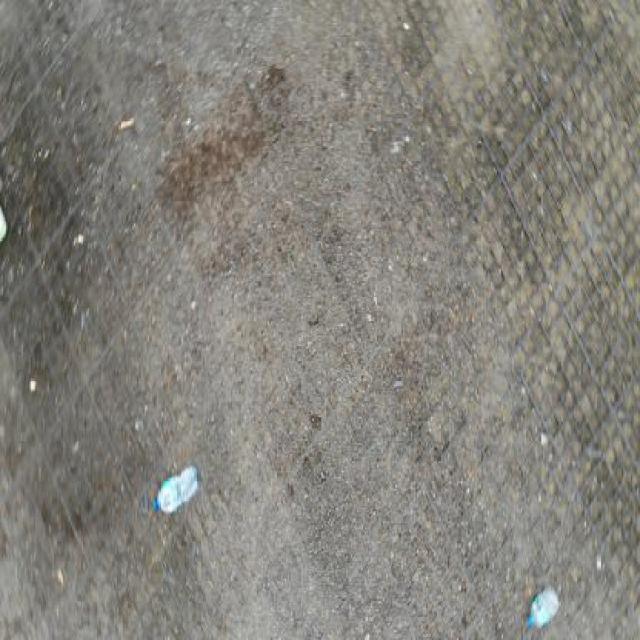Garbage: (153, 464, 198, 512), (526, 585, 561, 630), (116, 116, 135, 132), (0, 206, 8, 243)
